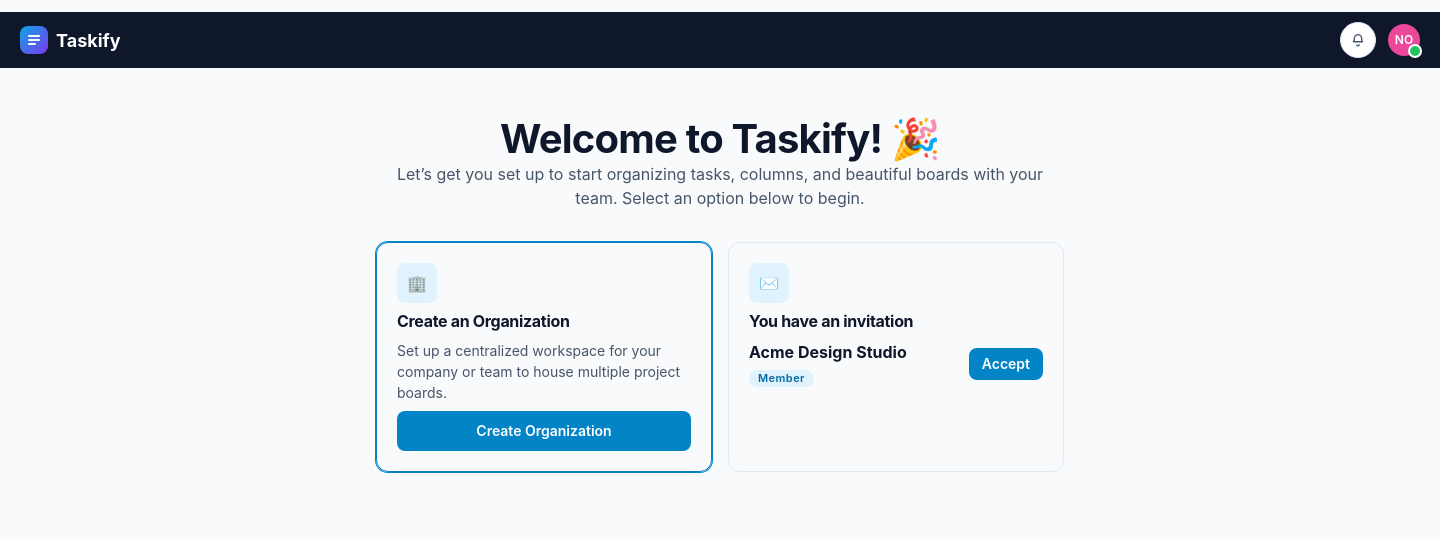
Test: WelcomePage › shows a pending invite to an org-less user and accepts it
Expected: the heading "You have an invitation" is shown, x1=749 y1=311 x2=913 y2=331
Expected: the text "Acme Design Studio" is shown, x1=749 y1=342 x2=907 y2=362
Click the button "Accept" at (1006,364), box x1=969 y1=348 x2=1043 y2=380
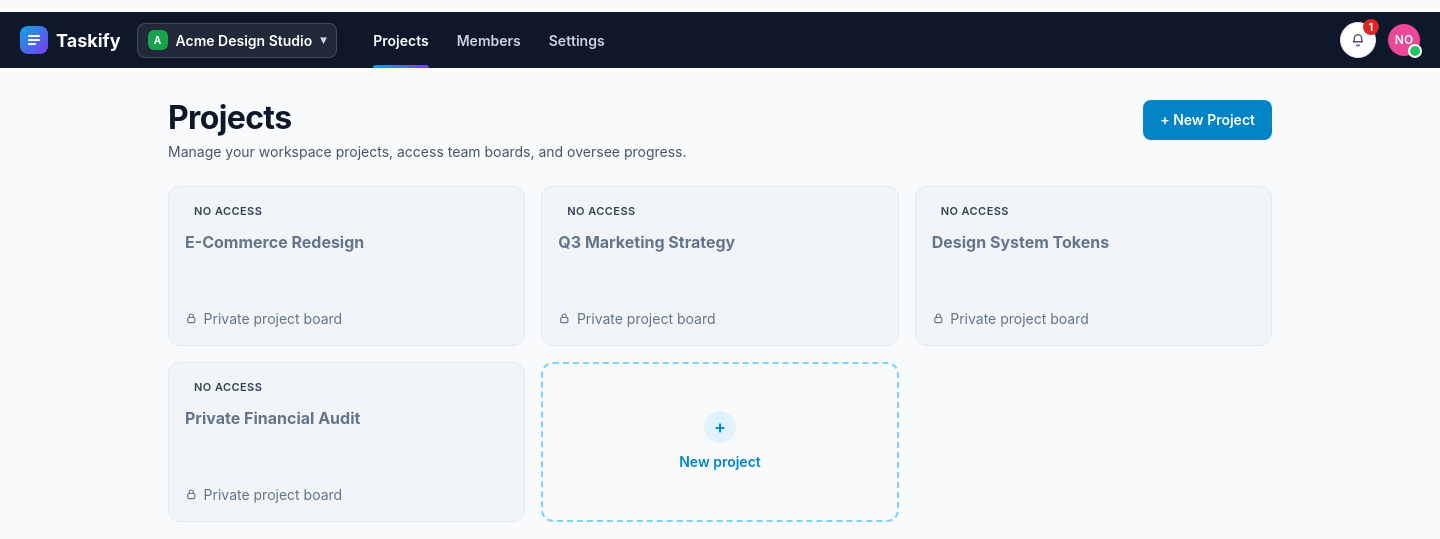
Expected: the heading "Projects" is shown, x1=168 y1=98 x2=292 y2=137
